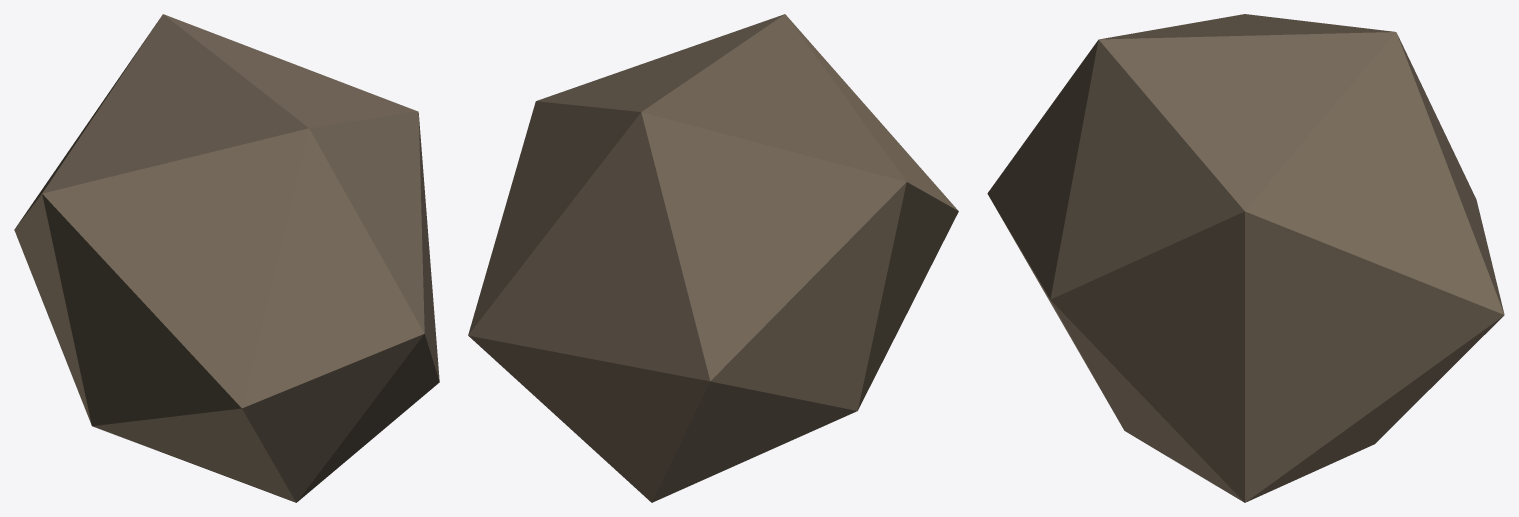
File: fr_rock_b_lod1.glb
3 views of the same model, side by side, from view 1: azimuth 30°, elevation 25°; view 2: azimuth 150°, elevation 25°; view 3: azimuth 270°, elevation 25° (orthographic). The views are drawn at different scales.
Visible parts, largest first — view 1: fr_rock_b_lod1; view 2: fr_rock_b_lod1; view 3: fr_rock_b_lod1.
Boxes of the visible parts, <box> form: fr_rock_b_lod1: <box>14,14,439,502</box>; fr_rock_b_lod1: <box>468,14,958,502</box>; fr_rock_b_lod1: <box>987,14,1504,502</box>.
Bounding box in the file's own units: 1.73 × 1.68 × 1.91.
